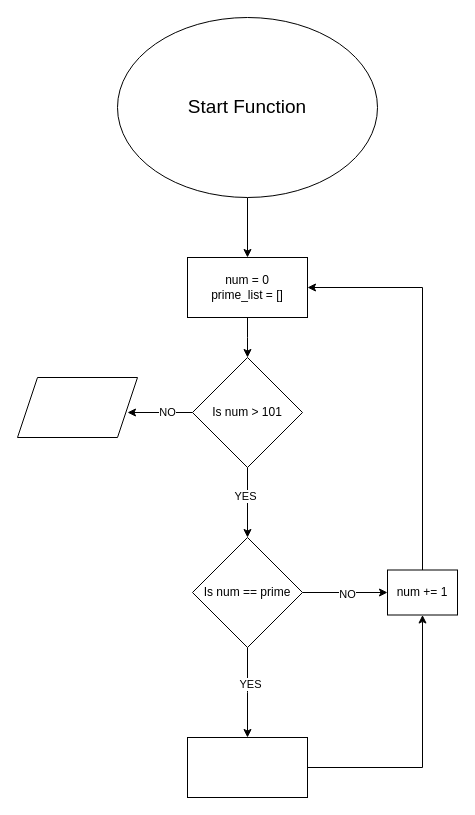
This 475x815 diagram has some shape labels left out. Each missing label, with the centre of its shape:
Append num to prime list: the point at 247,767
Print prime_list: the point at 77,407
